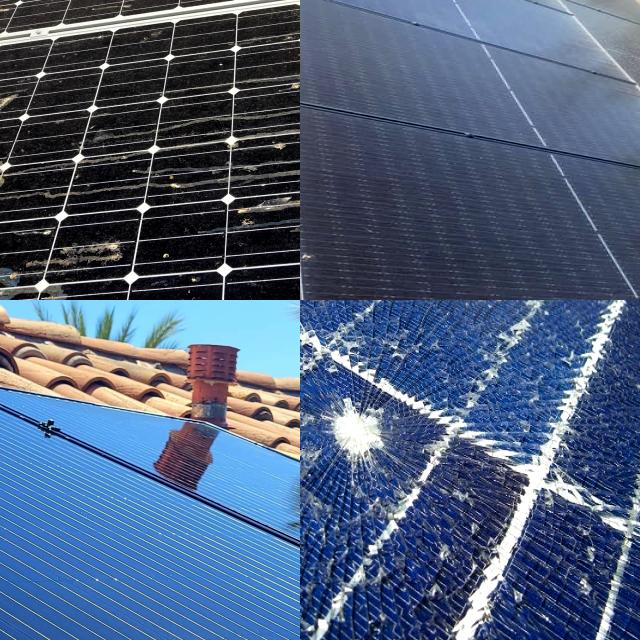bird: (48, 228, 134, 267), (219, 185, 300, 221), (0, 87, 49, 125), (0, 281, 87, 300), (0, 167, 36, 202)
crack: (0, 430, 110, 529), (111, 506, 231, 587), (191, 439, 300, 517), (0, 605, 218, 640), (0, 420, 64, 509), (0, 507, 51, 598), (0, 492, 65, 552), (0, 393, 29, 448)
hotspot: (312, 370, 418, 498)
